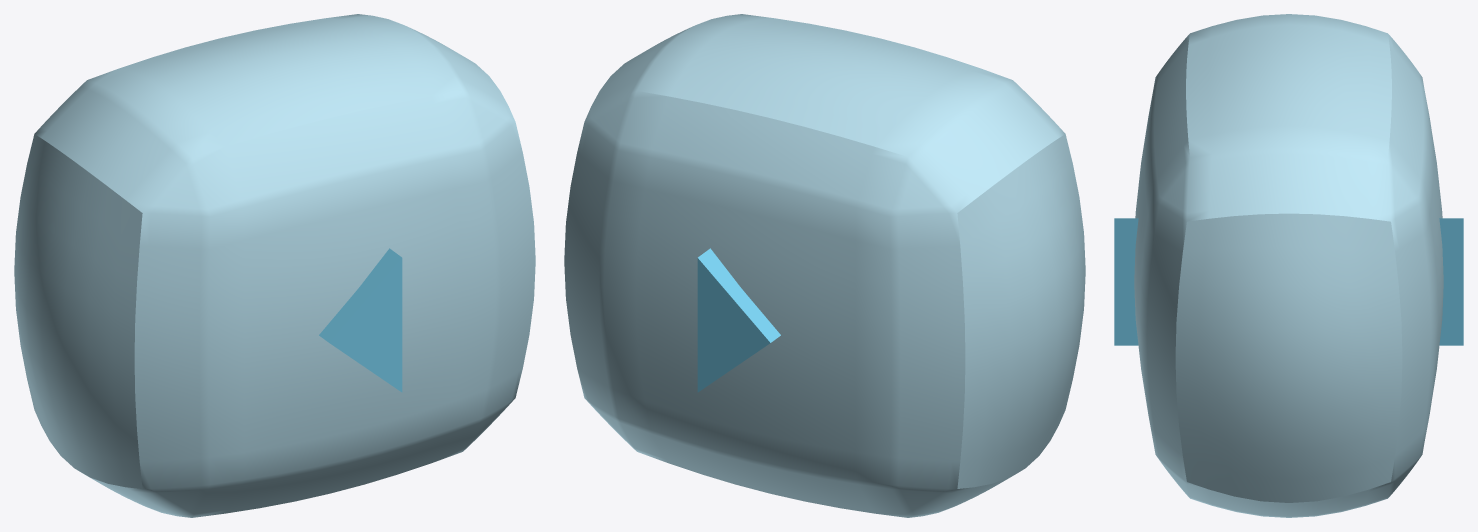
Rendered from play_button_animation_frame10.fbx.
3 renders of one model, left to right at view 1: azimuth 30°, elevation 25°; view 2: azimuth 150°, elevation 25°; view 3: azimuth 270°, elevation 25°, orthographic. The views are drawn at different scales.
Parts seen in each view (by area): view 1: Button, Triangle; view 2: Button, Triangle; view 3: Button, Triangle.
Part boxes in pixels (x1,y1,x2,y2): Button: [14, 14, 535, 517]; Triangle: [319, 248, 402, 392]; Button: [564, 14, 1085, 517]; Triangle: [697, 248, 780, 392]; Button: [1134, 14, 1443, 517]; Triangle: [1114, 218, 1463, 345].
Size of the model in its own units: 357 by 307 by 245.
